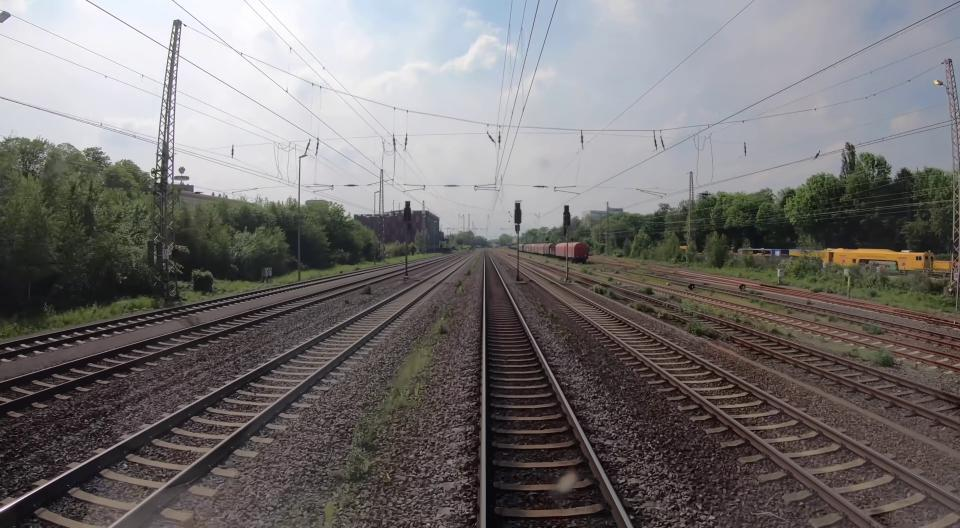Plant: (776, 326, 896, 367), (380, 336, 437, 421), (683, 299, 780, 333), (696, 290, 812, 315), (814, 314, 883, 335), (336, 452, 371, 482), (630, 302, 674, 321), (352, 421, 378, 452), (616, 271, 667, 285), (686, 322, 720, 340), (590, 284, 614, 299), (432, 316, 448, 334), (465, 256, 479, 275), (635, 285, 654, 296), (456, 281, 465, 296), (362, 284, 373, 295), (654, 293, 668, 301), (669, 295, 682, 303), (582, 268, 595, 275), (608, 277, 614, 281)
